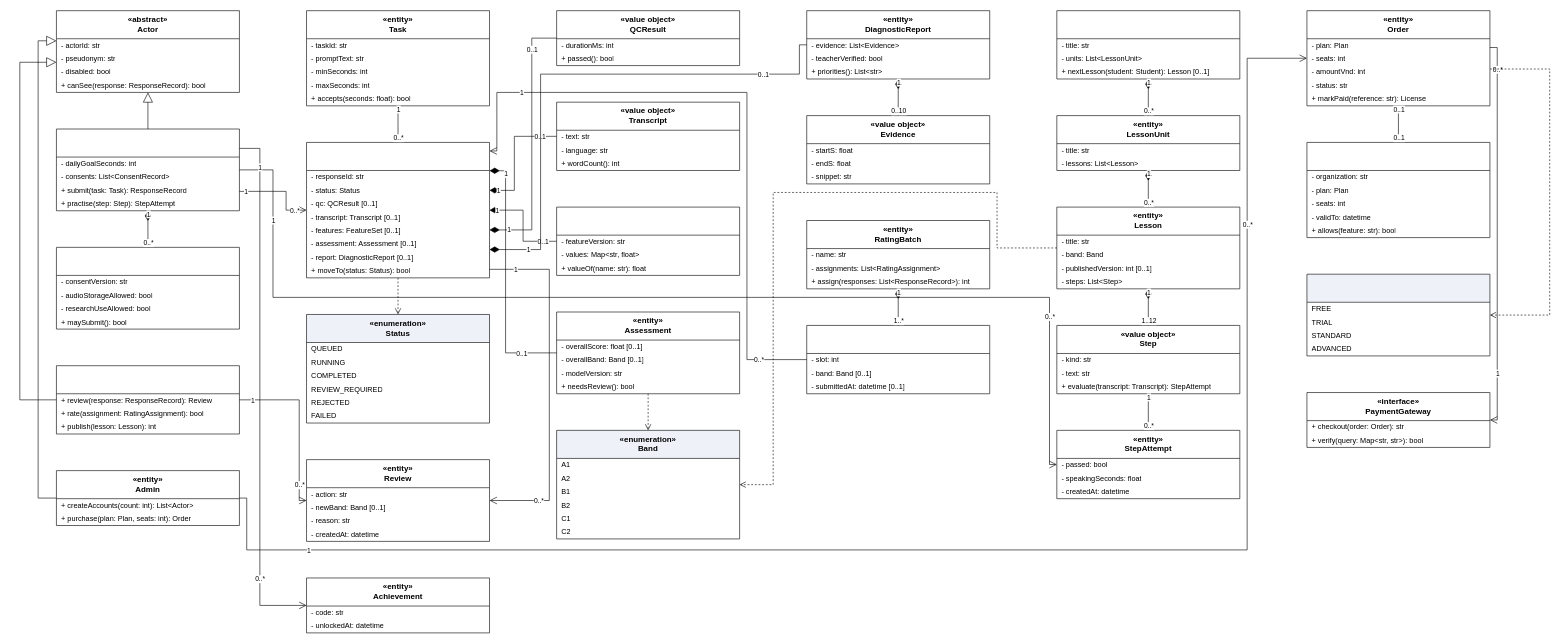
Image size: 1566x644. Some labels were removed from this diagram. The box of each missing label's shape, as (x1, y1, x2, y2) in pixels:
«entity» LessonPath: (1056, 10, 1240, 79)
«entity» License: (1306, 142, 1490, 238)
«entity» RatingAssignment: (806, 325, 990, 394)
«entity» ResponseRecord: (306, 142, 490, 278)
«entity» Student: (56, 128, 239, 211)
«entity» Teacher: (56, 365, 239, 434)
«enumeration» Plan: (1306, 274, 1490, 356)
«value object» ConsentRecord: (56, 247, 239, 329)
«value object» FeatureSet: (556, 206, 740, 275)
